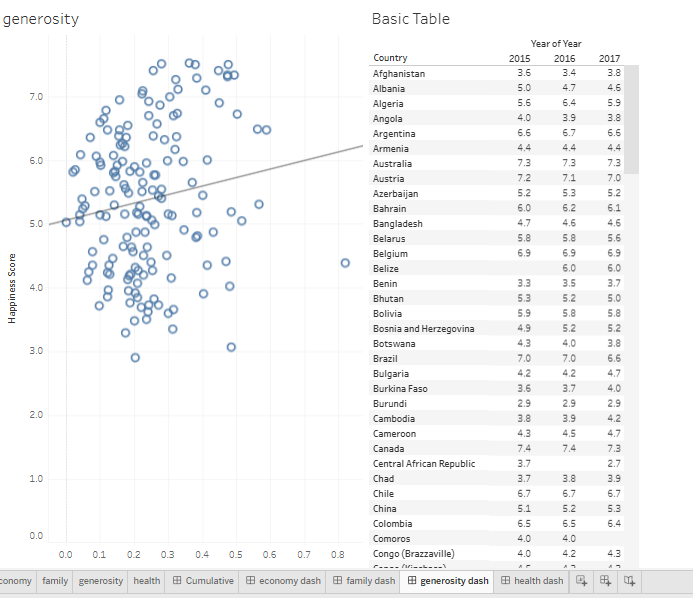

The dashboard page shown, as its layout file describes it:
{"tool":"tableau","page":{"name":"generosity dash","canvas":[1000,800],"ordinal":3},"visuals":[{"type":"worksheet","title":"generosity","mark":"Automatic","rows":["Happiness Score"],"cols":["Generosity"],"box":[8,8,492,784]},{"type":"worksheet","title":"Basic Table","mark":"Automatic","rows":["Country"],"cols":["Year"],"box":[500,8,492,784]}]}

Visuals, with their boxes on the page's 1000x800 design canvas (x1, y1, x2, y2). These are canvas units, not pixel positions in the 693x598 screenshot, which may show the page scaled, cropped or inside an application window:
"generosity" worksheet: x1=8 y1=8 x2=500 y2=792
"Basic Table" worksheet: x1=500 y1=8 x2=992 y2=792
